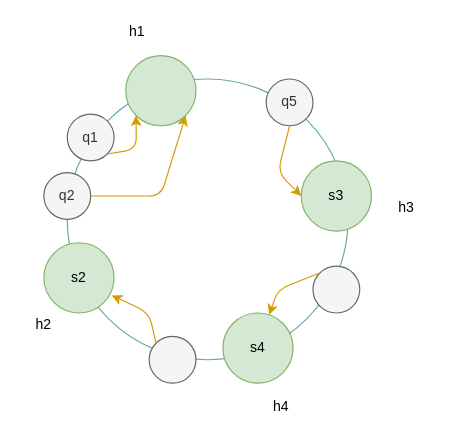
The diagram is 449 pixels wide and 438 high, and some of its shapes have lost their labels. The shapes that lost their labels are listed below. From the top down, each one's centre as x and y in pixels, then its label:
At [160,90]: "s1".
At [336,289]: "q4".
At [172,359]: "q3".
